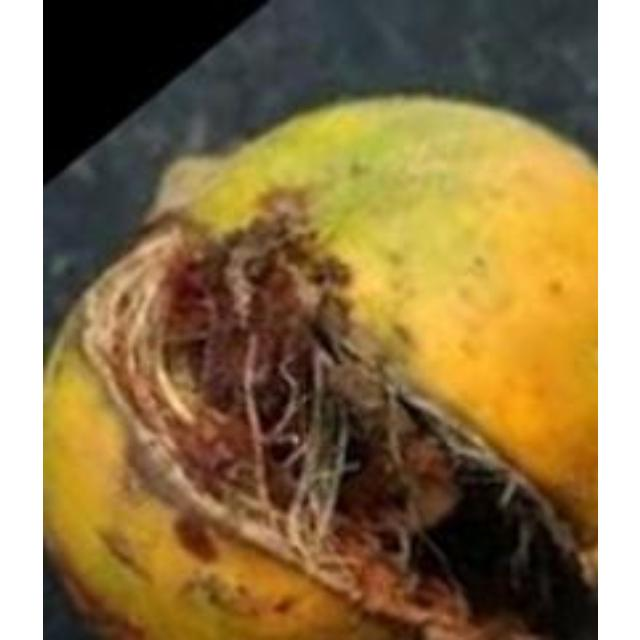damaged: (63, 93, 594, 637)
